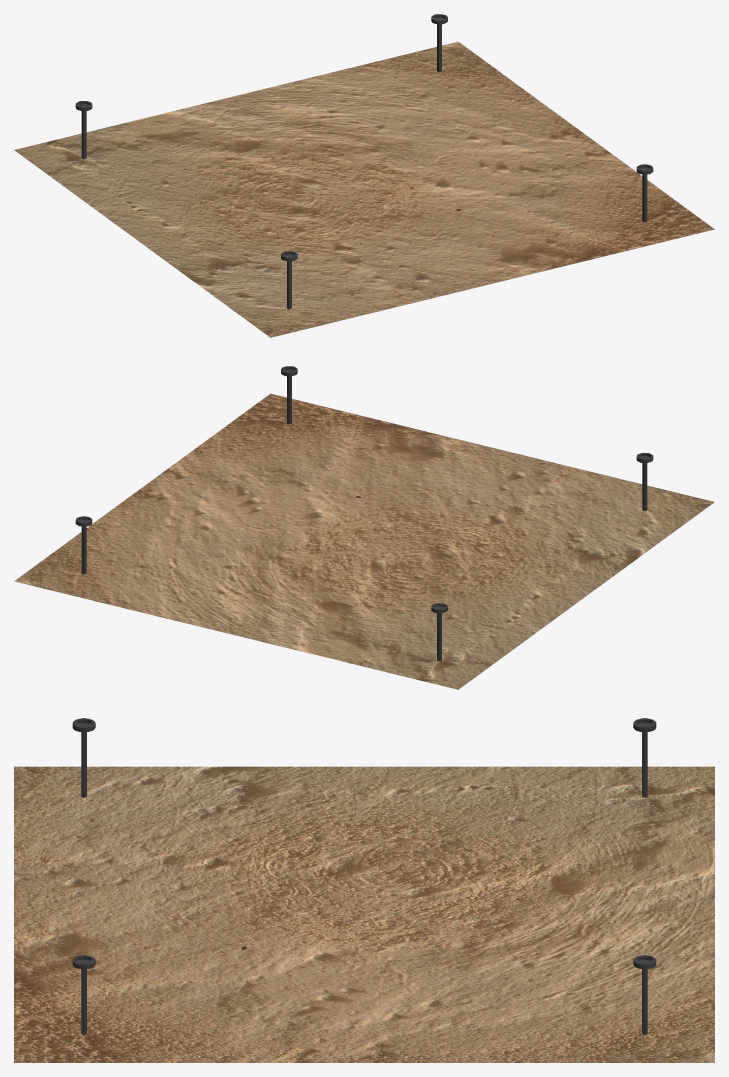
File: SURGIMENTO_BASE.glb
3 views of the same model, one above another, from view 1: azimuth 30°, elevation 25°; view 2: azimuth 150°, elevation 25°; view 3: azimuth 270°, elevation 25° (orthographic). The views are drawn at different scales.
Visible parts, largest first — view 1: SURGIMENTO_Plano; view 2: SURGIMENTO_Plano; view 3: SURGIMENTO_Plano, SURGIMENTO_Cubo_Luz, SURGIMENTO_Cubo_Luz_2, SURGIMENTO_Cubo_Luz_3, SURGIMENTO_Cubo_Luz_4.
Boxes of the visible parts, bbox=[...] form: SURGIMENTO_Plano: bbox=[14, 41, 714, 337]; SURGIMENTO_Plano: bbox=[14, 393, 714, 689]; SURGIMENTO_Plano: bbox=[14, 766, 714, 1062]; SURGIMENTO_Cubo_Luz: bbox=[72, 718, 95, 797]; SURGIMENTO_Cubo_Luz_2: bbox=[72, 955, 95, 1034]; SURGIMENTO_Cubo_Luz_3: bbox=[633, 718, 656, 797]; SURGIMENTO_Cubo_Luz_4: bbox=[633, 955, 656, 1034].
Bounding box in the file's own units: 1 × 0.1201 × 1.
2 materials, 2 textured.
